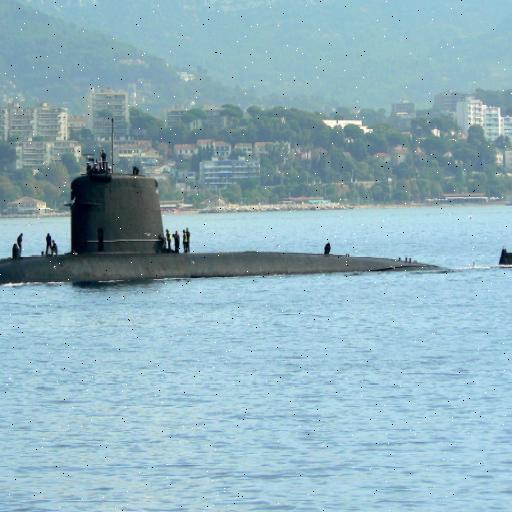submarine: (1, 127, 512, 290)
